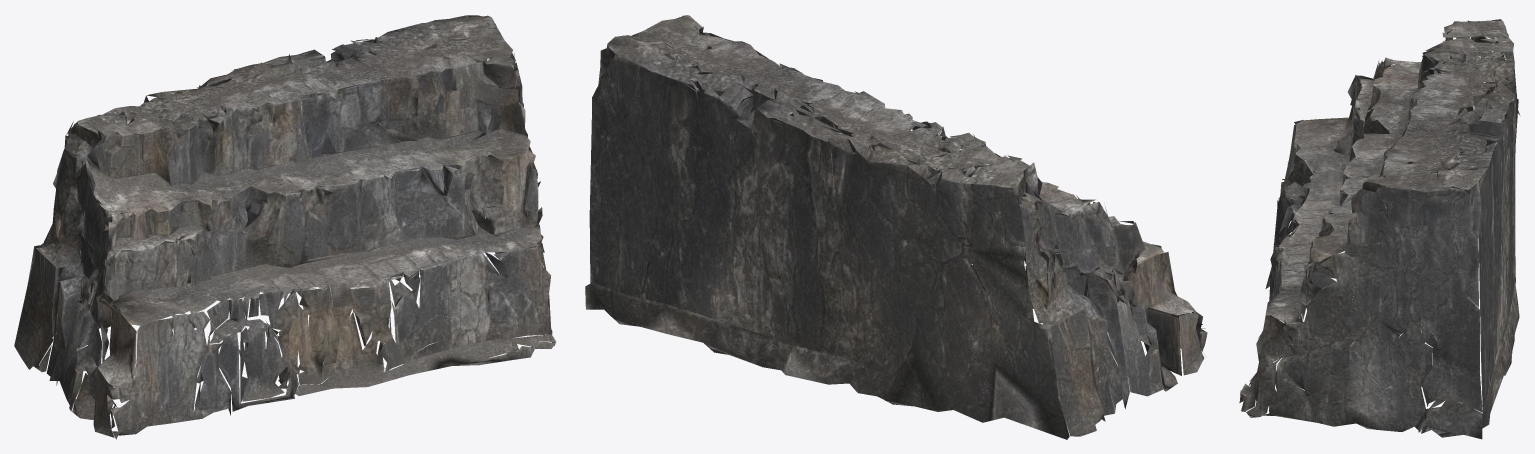
File: steinbruch_felswand.glb
3 renders of one model, left to right at view 1: azimuth 30°, elevation 25°; view 2: azimuth 150°, elevation 25°; view 3: azimuth 270°, elevation 25°, orthographic. The views are drawn at different scales.
Parts seen in each view (by area): view 1: Prop; view 2: Prop; view 3: Prop.
Part boxes in pixels (x1,y1,x2,y2): Prop: (14,15,556,439); Prop: (585,15,1207,439); Prop: (1239,19,1520,439).
Size of the model in its own units: 2.02 by 1.01 by 1.01.
Materials: 1 (1 with a texture image).
